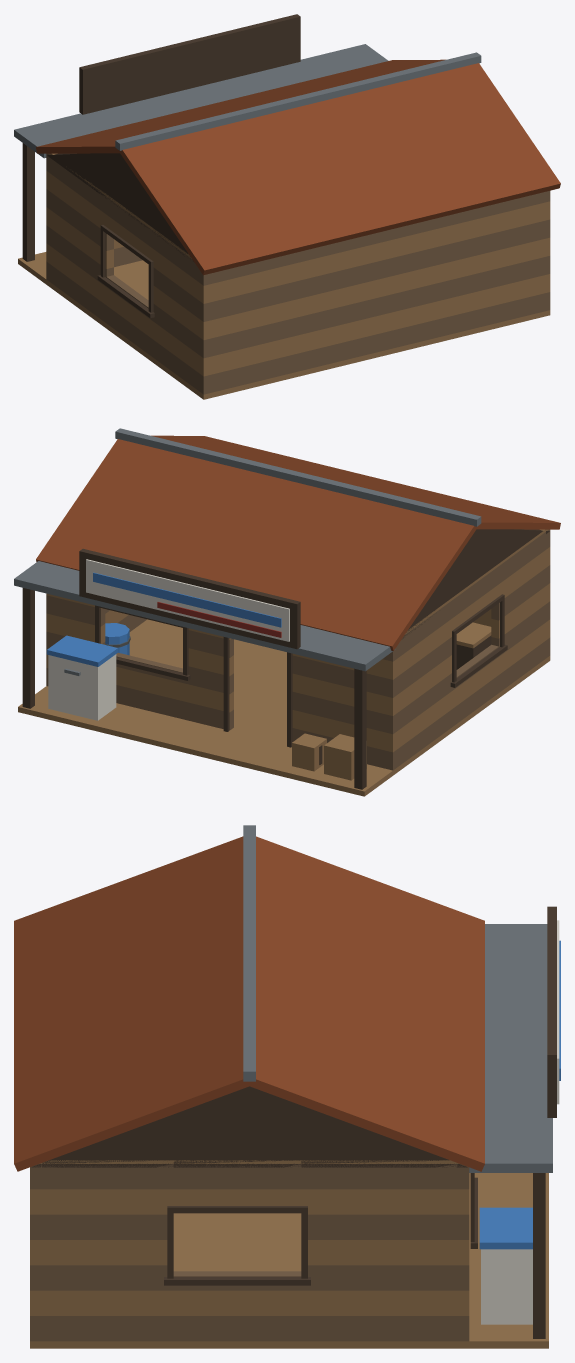
The model's file is bait_shop.glb.
The picture shows the model from 3 angles, top to bottom: view 1: azimuth 30°, elevation 25°; view 2: azimuth 150°, elevation 25°; view 3: azimuth 270°, elevation 25°; orthographic projection. The views are drawn at different scales.
Visible parts, largest first — view 1: bait_shop; view 2: bait_shop; view 3: bait_shop.
Part boxes in pixels (x1,y1,x2,y2): bait_shop: (14, 14, 560, 399); bait_shop: (14, 428, 560, 796); bait_shop: (14, 825, 560, 1348).
Size of what is drawn, in the model's own units: 7.3 by 3.9 by 6.85.
Materials: 2 (2 with a texture image).
